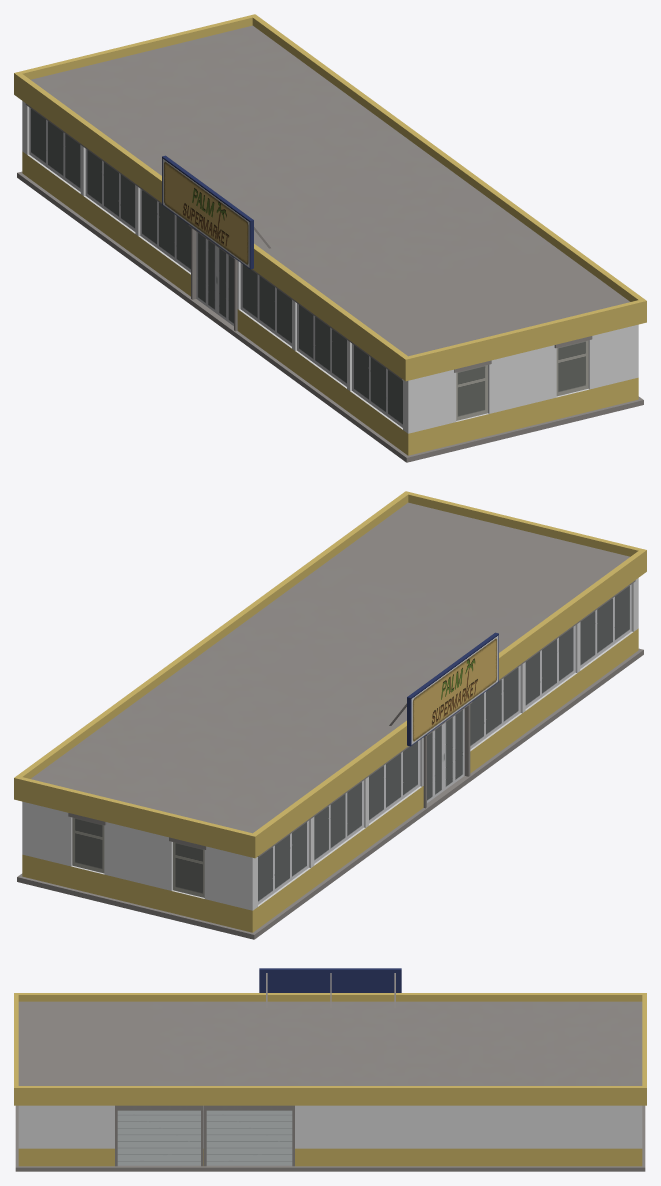
File: supermarket.fbx
The picture shows the model from 3 angles, top to bottom: view 1: azimuth 30°, elevation 25°; view 2: azimuth 150°, elevation 25°; view 3: azimuth 270°, elevation 25°; orthographic projection. The views are drawn at different scales.
Visible parts, largest first — view 1: sptp_building_20; view 2: sptp_building_20; view 3: sptp_building_20.
Part boxes in pixels (x1=…): sptp_building_20: x1=14, y1=14, x2=646, y2=462; sptp_building_20: x1=14, y1=491, x2=646, y2=939; sptp_building_20: x1=14, y1=968, x2=646, y2=1171.
Size of the model in its own units: 790 by 409 by 2187.
1 material, 1 textured.
